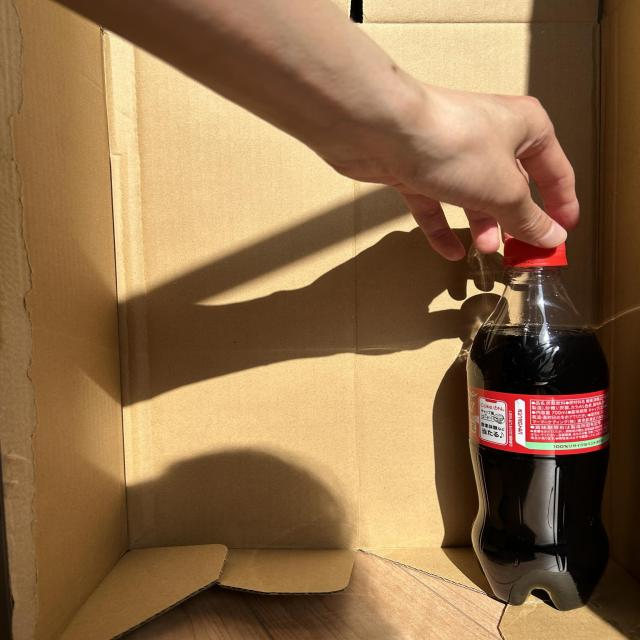high: (467, 238, 611, 611)
